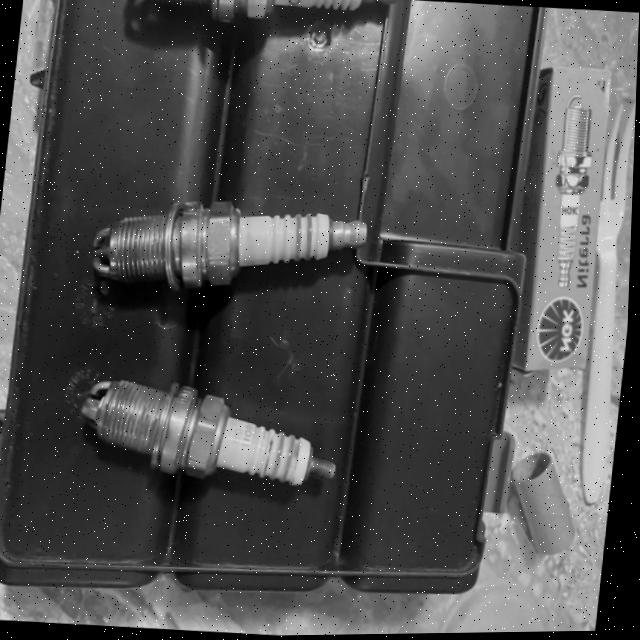spark-plug: (74, 369, 354, 522), (82, 182, 379, 314)
